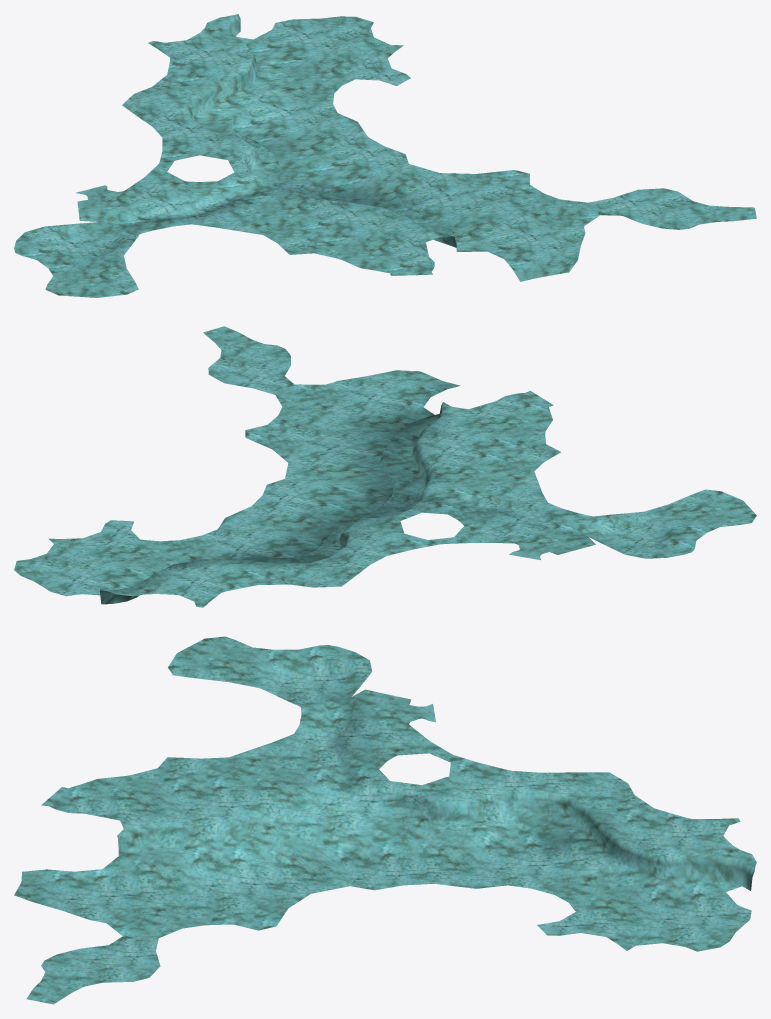
Rendered from EKH_GROTTO_PS_GR_OBJECT18.fbx.
3 renders of one model, top to bottom at view 1: azimuth 30°, elevation 25°; view 2: azimuth 150°, elevation 25°; view 3: azimuth 270°, elevation 25°, orthographic. The views are drawn at different scales.
Parts seen in each view (by area): view 1: EKH_GROTTO_PS_GR_OBJECT18; view 2: EKH_GROTTO_PS_GR_OBJECT18; view 3: EKH_GROTTO_PS_GR_OBJECT18.
Boxes of the visible parts, left/top/right/bottom form: EKH_GROTTO_PS_GR_OBJECT18: left=14, top=14, right=756, bottom=297; EKH_GROTTO_PS_GR_OBJECT18: left=14, top=326, right=756, bottom=607; EKH_GROTTO_PS_GR_OBJECT18: left=14, top=636, right=756, bottom=1004.
Bounding box in the file's own units: 398975 × 12245 × 358755.
1 material, 1 textured.
